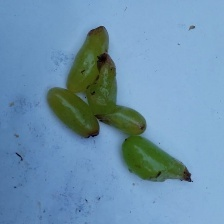grapes: (36, 10, 217, 175)
